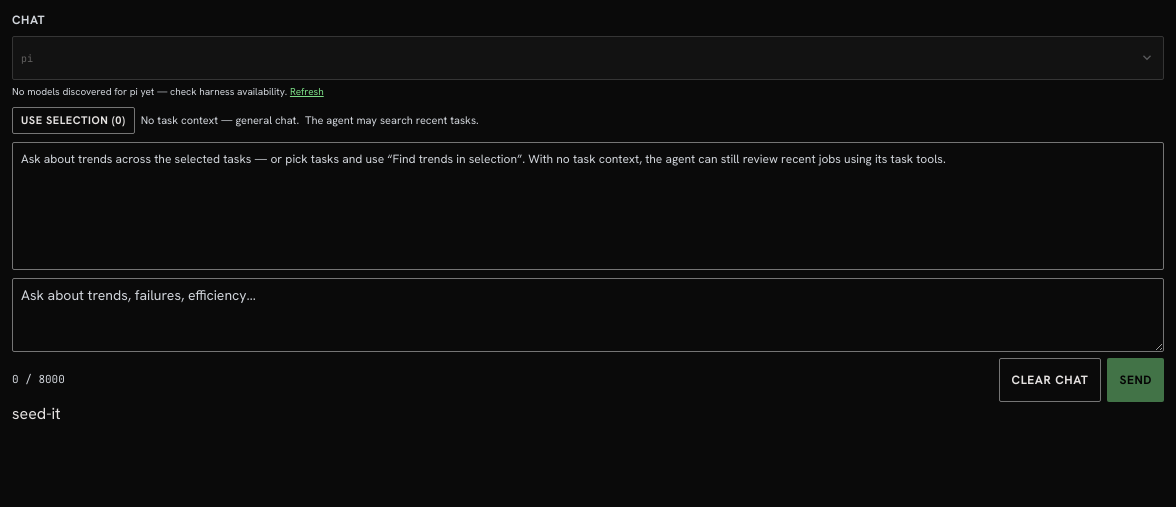
Test: RetrospectiveChat › renders the degraded notice for a 501 harness
The image size is (1176, 507).
Type "hi" into the text box with test id "retrospective-chat-input" at (588, 314), box [12,278,1164,352]
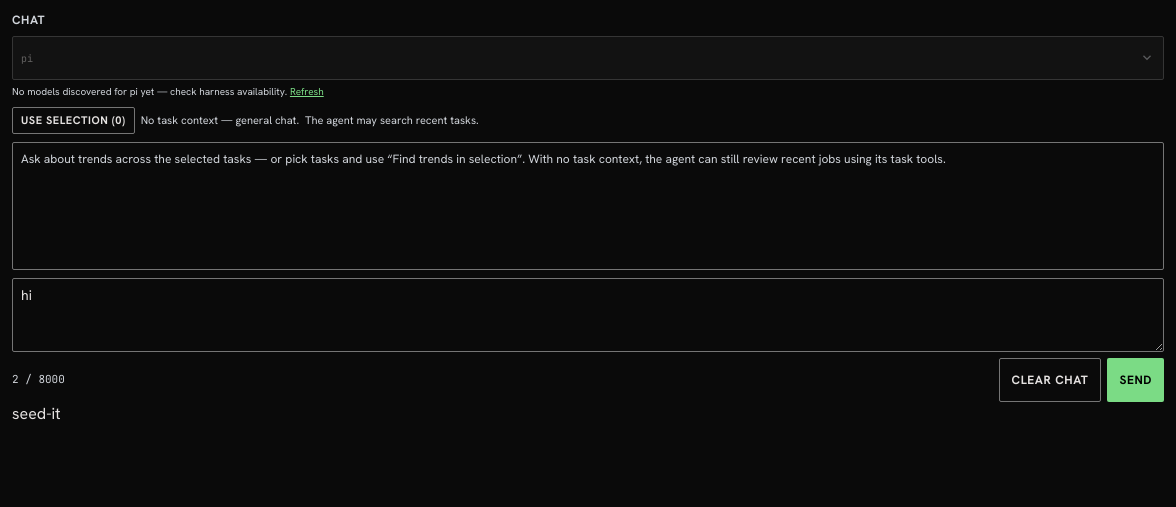
Click the button with test id "retrospective-chat-send" at (1136, 380), box [1107,358,1164,402]
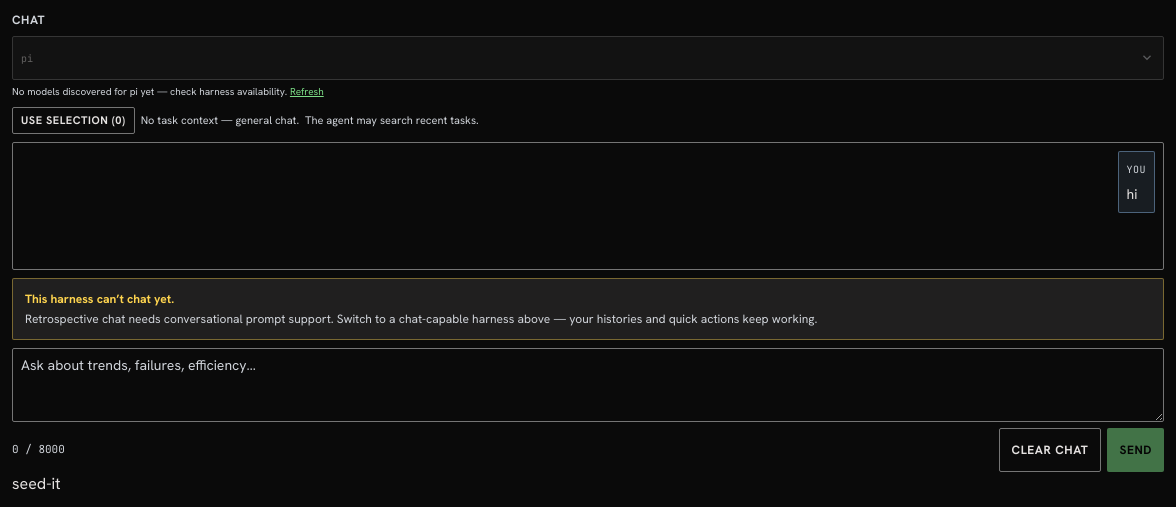
Expected: the message with test id "retrospective-chat-degraded" shows "This harness can’t chat yet", [25,290,171,306]
